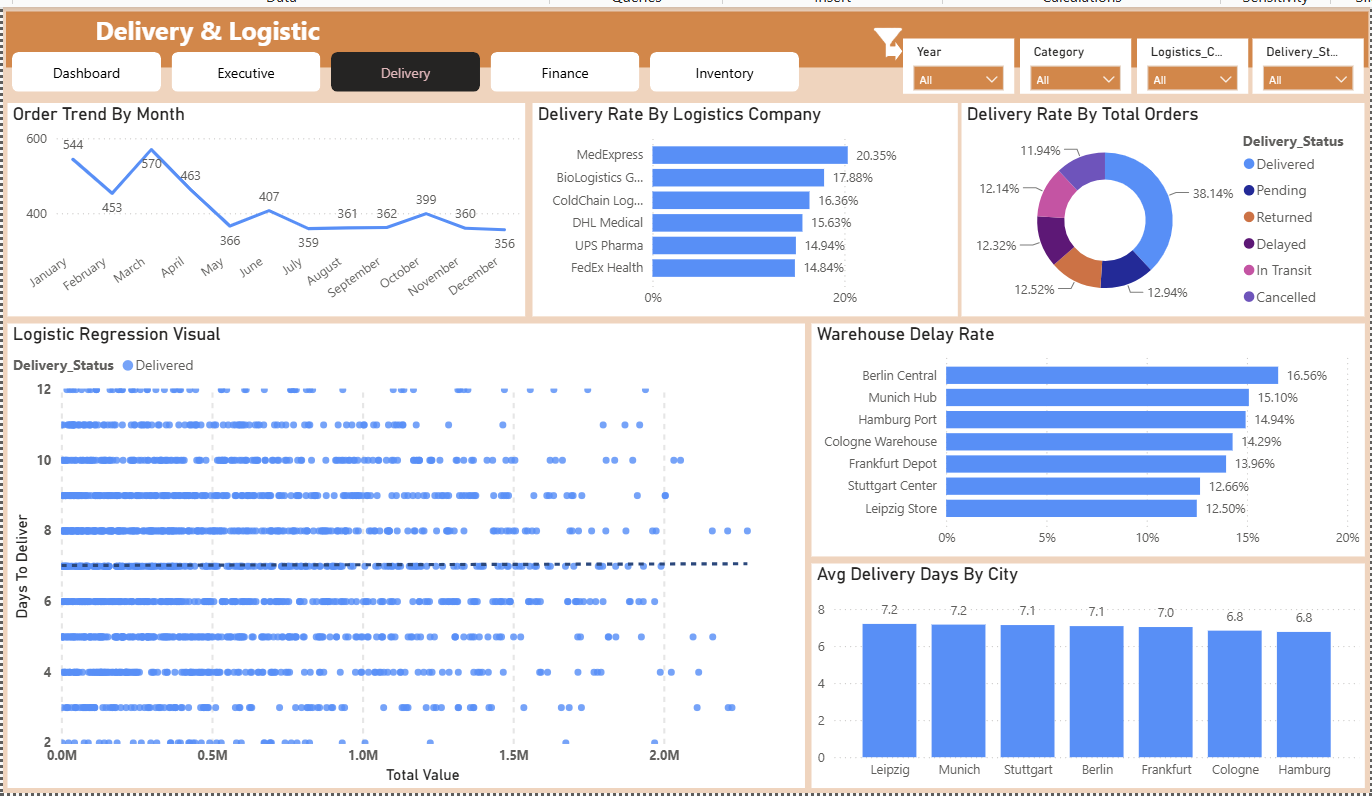

This screenshot's page, from the dashboard's own definition file:
{"tool":"powerbi","page":{"name":"Delivery","canvas":[1303,750],"ordinal":2},"visuals":[{"type":"textbox","box":[2.8,4.2,1299.6,53.5],"z":0},{"type":"image","box":[823.1,9.2,40.1,53.9],"z":1000},{"type":"donutChart","title":"Delivery Rate By Total Orders","fields":{"Category":["Pharma_Healthcare_Logistics_Dataset.Delivery_Status"],"Y":["Messures.Total Order"]},"box":[914.1,90.9,383.8,203.5],"z":2000},{"type":"shape","box":[843.2,32.4,13.9,18.5],"z":3000},{"type":"barChart","title":"Delivery Rate By Logistics Company","fields":{"Category":["Pharma_Healthcare_Logistics_Dataset.Logistics_Company"],"Y":["Messures.%On Time Delivery"]},"box":[504,90.9,405.4,203.5],"z":4000},{"type":"barChart","title":"Warehouse Delay Rate","fields":{"Category":["Pharma_Healthcare_Logistics_Dataset.Warehouse"],"Y":["Messures.%On Time delay"]},"box":[770.7,302.1,527.2,222],"z":5000},{"type":"lineChart","title":"Order Trend By Month","fields":{"Category":["Pharma_Healthcare_Logistics_Dataset.Order_Date.Variation.Date Hierarchy.Month"],"Y":["Messures.Total Order"]},"box":[4.6,90.9,493.3,203.5],"z":6000},{"type":"scatterChart","title":"Logistic Regression Visual","fields":{"X":["Sum(Pharma_Healthcare_Logistics_Dataset.Final_Value_EUR)"],"Y":["Sum(Pharma_Healthcare_Logistics_Dataset.Days_To_Deliver)"],"Category":["Pharma_Healthcare_Logistics_Dataset.Order_ID"],"Series":["Pharma_Healthcare_Logistics_Dataset.Delivery_Status"]},"box":[4.6,302.1,759.9,442.4],"z":7000},{"type":"columnChart","title":"Avg Delivery Days By City","fields":{"Y":["Messures.%Avg Delivery Days","Messures.%Avg Delivery Days"],"Category":["Pharma_Healthcare_Logistics_Dataset.City"]},"box":[770.7,530.2,527.2,214.3],"z":8000},{"type":"slicer","fields":{"Values":["Pharma_Healthcare_Logistics_Dataset.Delivery_Status"]},"box":[1190.8,30,105.8,52.9],"z":9000},{"type":"pageNavigator","box":[9.2,43.2,753.8,38.5],"z":10000},{"type":"slicer","fields":{"Values":["Pharma_Healthcare_Logistics_Dataset.Logistics_Company"]},"box":[1080.7,30,105.8,52.9],"z":11000},{"type":"slicer","fields":{"Values":["Pharma_Healthcare_Logistics_Dataset.Category"]},"box":[969.2,30,105.8,52.9],"z":12000},{"type":"slicer","fields":{"Values":["Pharma_Healthcare_Logistics_Dataset.Order_Date.Variation.Date Hierarchy.Year"]},"box":[857.7,30,105.8,52.9],"z":13000}]}

Visuals, with their boxes on the page's 1303x750 design canvas (x1, y1, x2, y2). These are canvas units, not pixel positions in the 1372x796 screenshot, which may show the page scaled, cropped or inside an application window:
textbox: (3, 4, 1302, 58)
image: (823, 9, 863, 63)
"Delivery Rate By Total Orders" donutChart: (914, 91, 1298, 294)
shape: (843, 32, 857, 51)
"Delivery Rate By Logistics Company" barChart: (504, 91, 909, 294)
"Warehouse Delay Rate" barChart: (771, 302, 1298, 524)
"Order Trend By Month" lineChart: (5, 91, 498, 294)
"Logistic Regression Visual" scatterChart: (5, 302, 764, 744)
"Avg Delivery Days By City" columnChart: (771, 530, 1298, 744)
slicer - Pharma_Healthcare_Logistics_Dataset.Delivery_Status: (1191, 30, 1297, 83)
pageNavigator: (9, 43, 763, 82)
slicer - Pharma_Healthcare_Logistics_Dataset.Logistics_Company: (1081, 30, 1186, 83)
slicer - Pharma_Healthcare_Logistics_Dataset.Category: (969, 30, 1075, 83)
slicer - Pharma_Healthcare_Logistics_Dataset.Order_Date.Variation.Date Hierarchy.Year: (858, 30, 964, 83)
